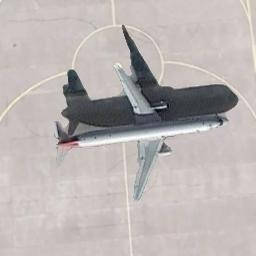Airplane: (52, 62, 230, 212)
